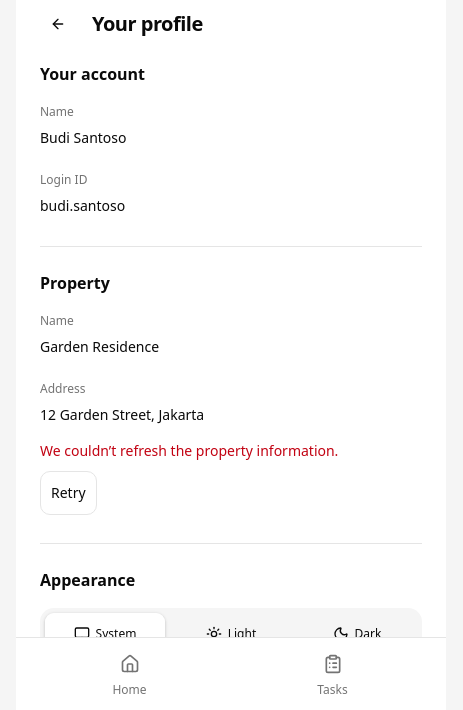
Test: retains property details during a refresh error and recovers with retry
Expected: the text "12 Garden Street, Jakarta" is shown, 40,405 -> 204,424
Expected: the text "We couldn’t refresh the property information." is shown, 40,441 -> 338,460
Click the button "Retry" at x=68, y=493, box 40,471 -> 97,515
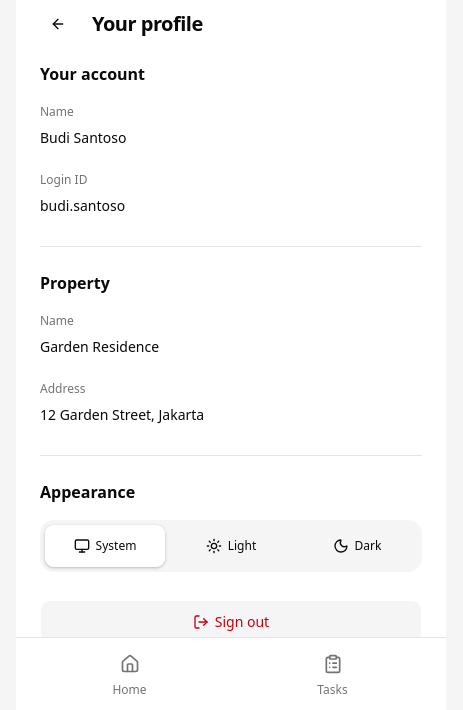
Now the message "We couldn’t refresh the property information." is gone
